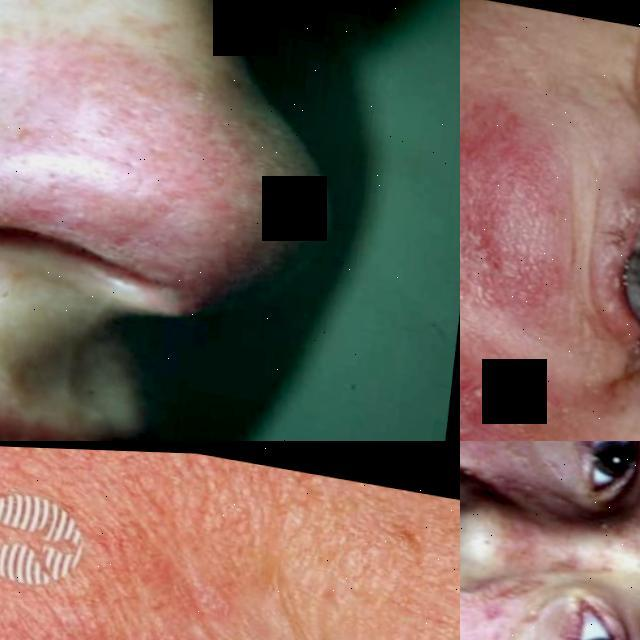lupus-detected: (0, 0, 355, 410), (460, 89, 640, 361), (460, 492, 640, 640), (460, 441, 640, 573), (460, 294, 614, 441)
